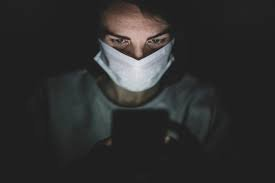mask: (91, 4, 189, 97)
